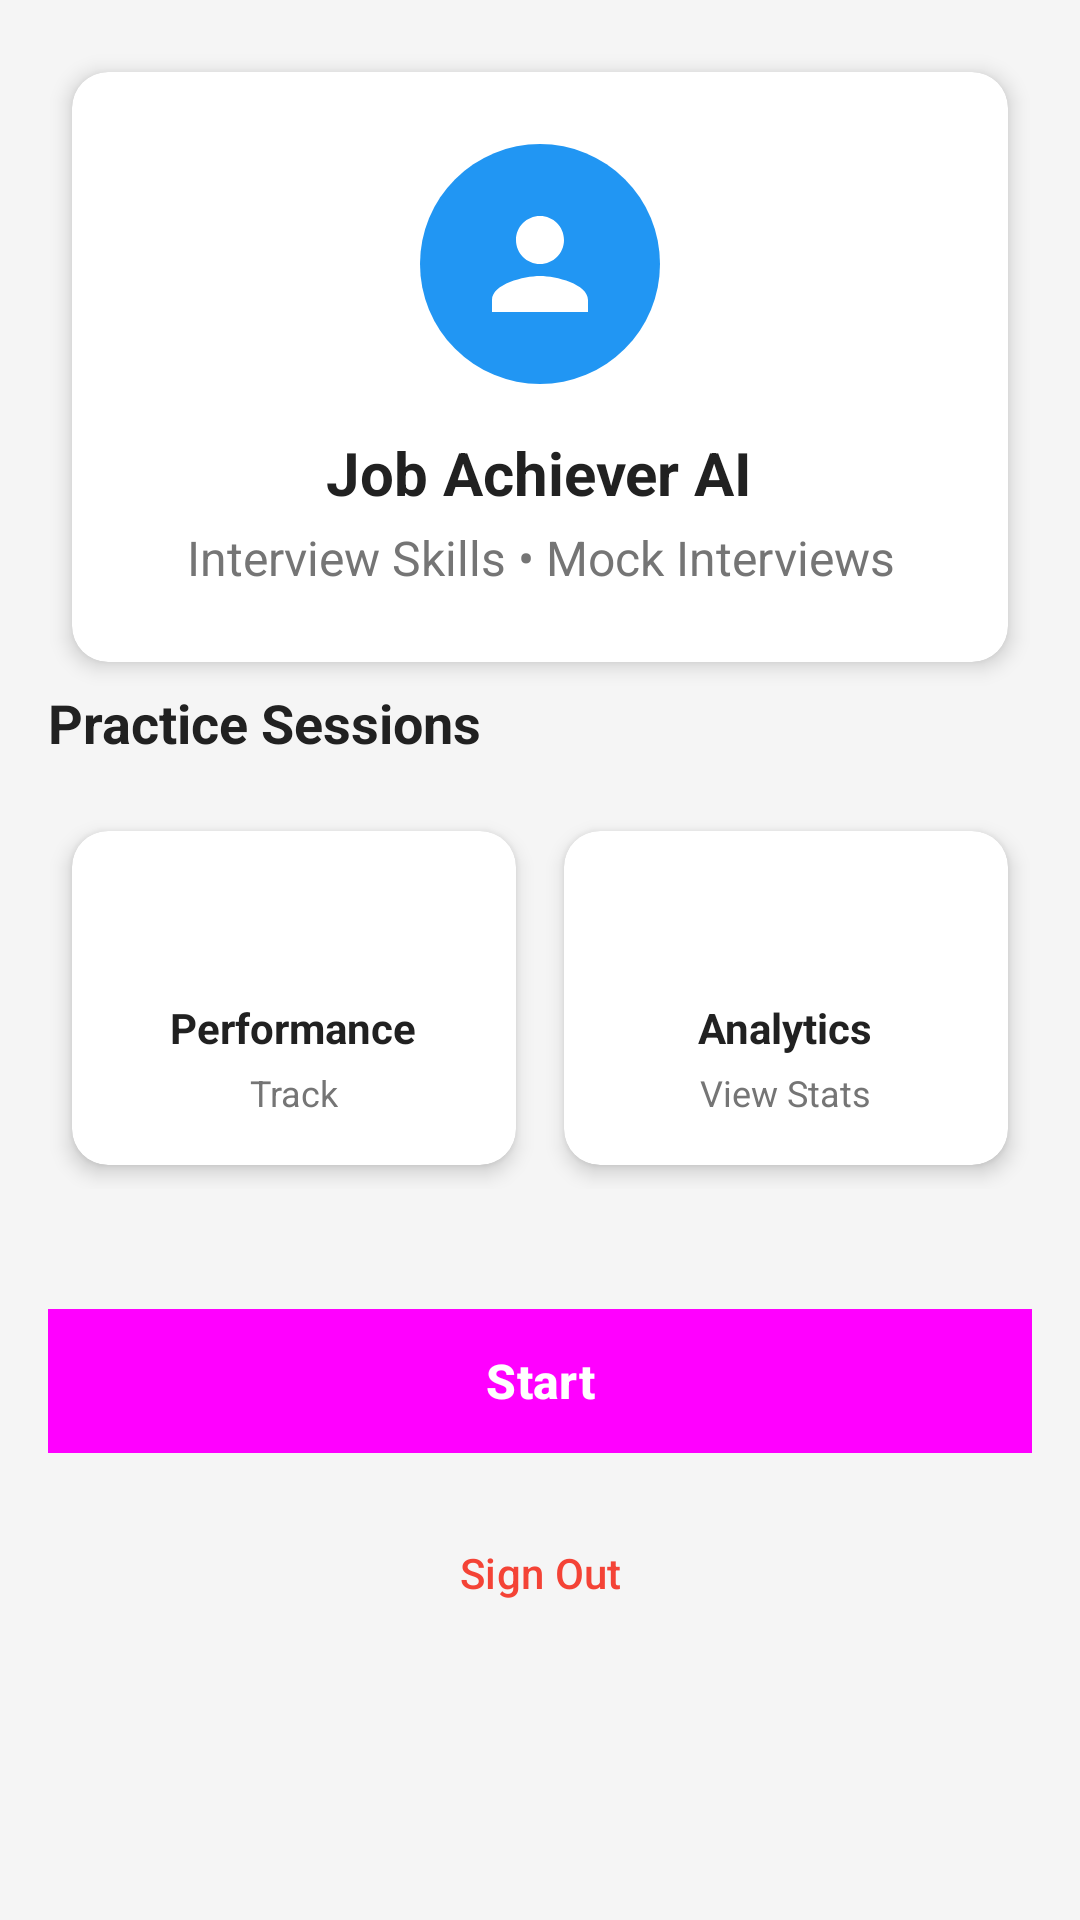

Icons on this 1080w x 1920h Android screen, each with the point to tap as (x,y):
profile: (540,264)
